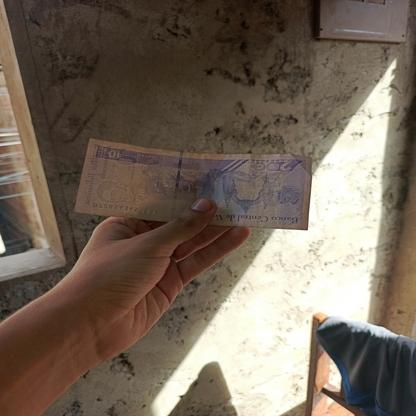ten-back-vef: (72, 138, 310, 232)
